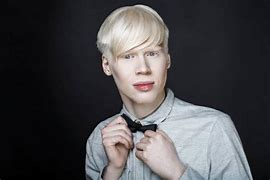person: (95, 5, 171, 106)
